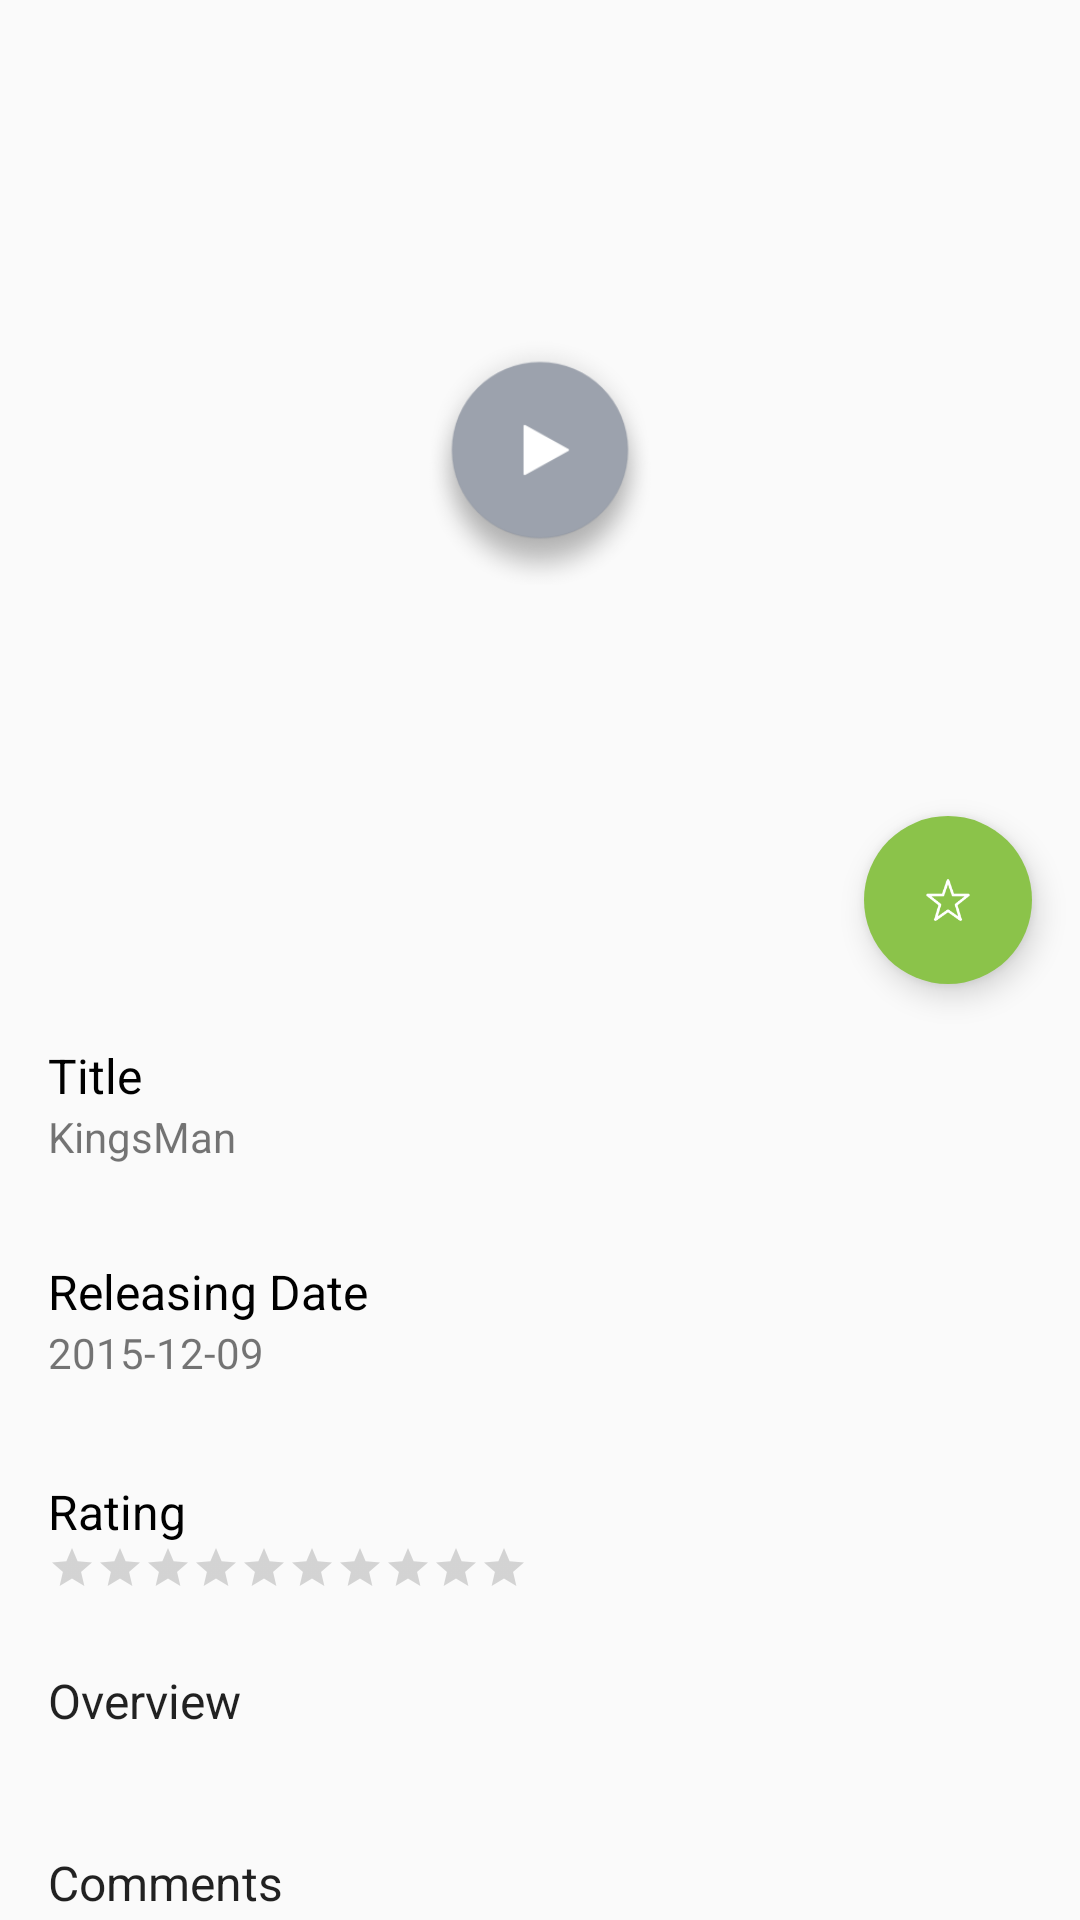

Where to tap for icons on this 1080×1920 app screen, as (x,y):
play: (540,463)
